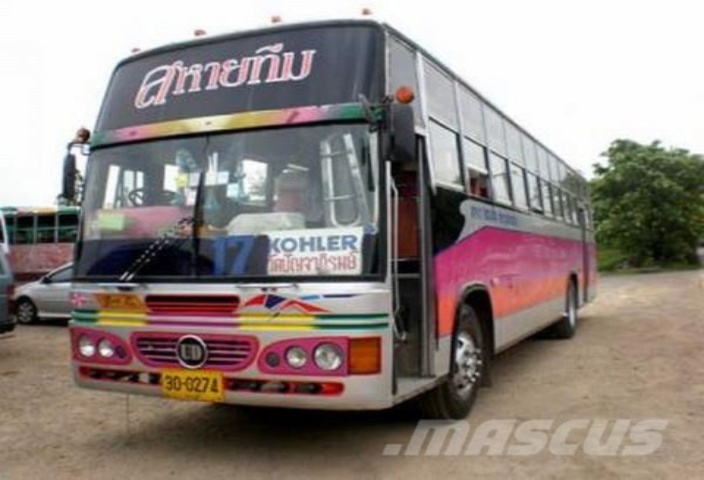bus: (40, 25, 602, 424)
